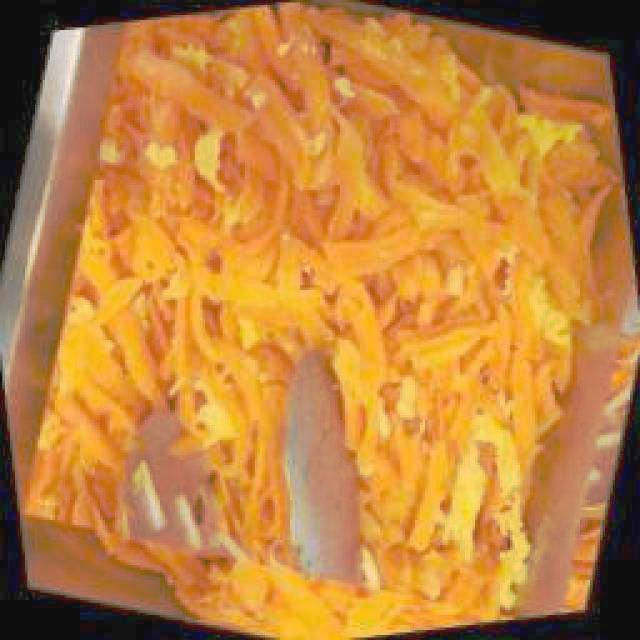carrot_eggs: (27, 3, 628, 618)
